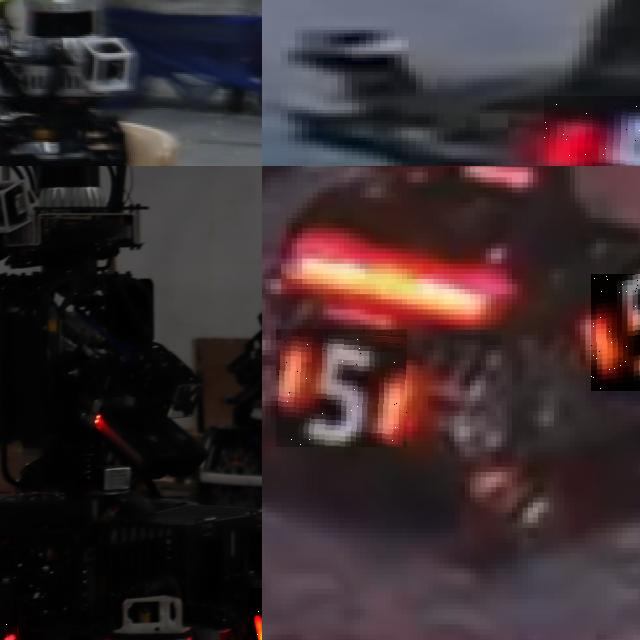R5: (276, 329, 407, 447), (543, 95, 640, 166), (590, 274, 640, 391)
